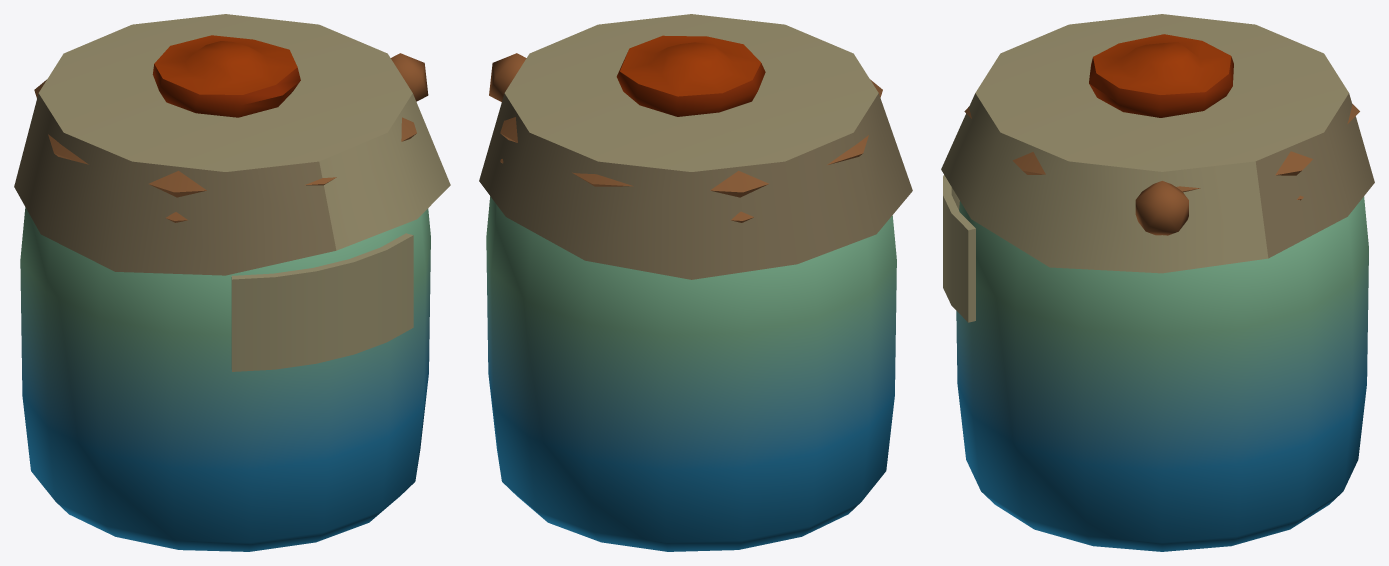
Rendered from Madde_Goztasi.fbx.
3 views of the same model, side by side, from view 1: azimuth 30°, elevation 25°; view 2: azimuth 150°, elevation 25°; view 3: azimuth 270°, elevation 25° (orthographic).
Parts seen in each view (by area): view 1: Madde_Goztasi_Model; view 2: Madde_Goztasi_Model; view 3: Madde_Goztasi_Model.
Boxes of the visible parts, x1=… form: Madde_Goztasi_Model: x1=14, y1=14, x2=450, y2=551; Madde_Goztasi_Model: x1=479, y1=14, x2=912, y2=551; Madde_Goztasi_Model: x1=941, y1=14, x2=1374, y2=551.
Bounding box in the file's own units: 0.1293 × 0.1382 × 0.1267.
